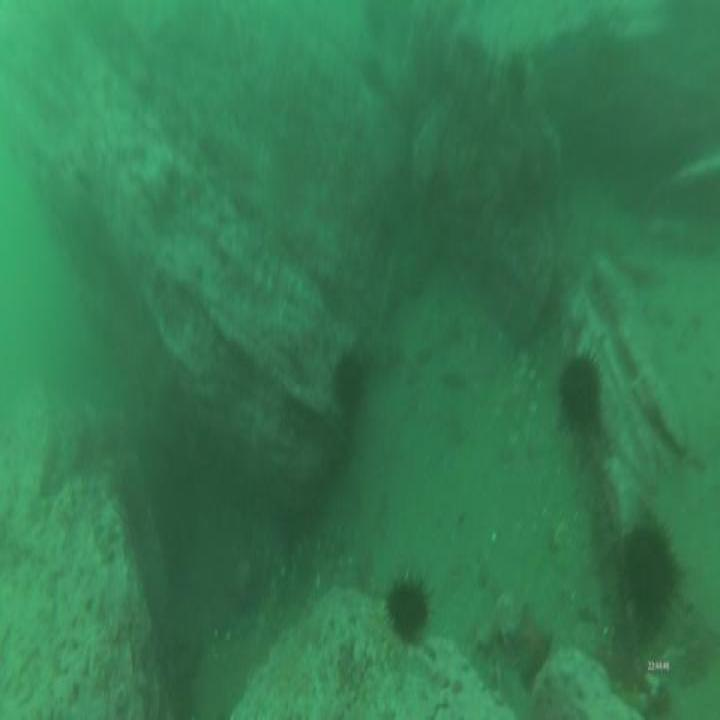echinus: (618, 517, 684, 633), (553, 347, 606, 439), (385, 565, 433, 640), (329, 347, 367, 416), (357, 50, 395, 106), (502, 46, 533, 96), (364, 0, 391, 32)
starfish: (501, 596, 557, 695)
